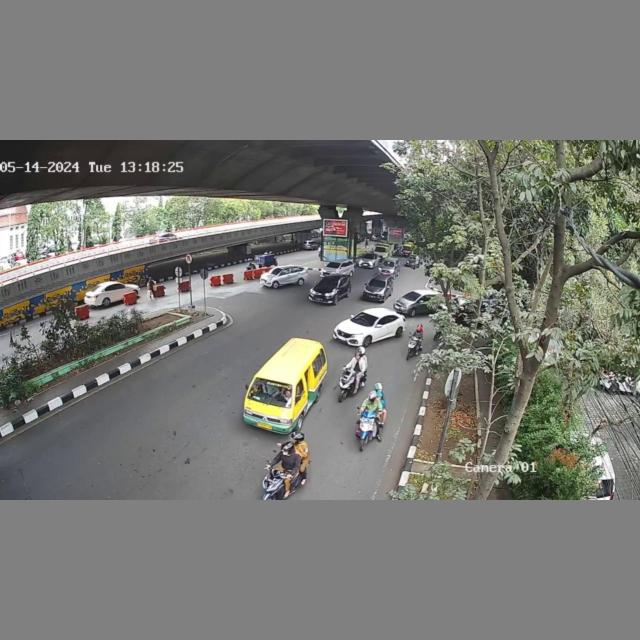windshield: (245, 377, 295, 412)
